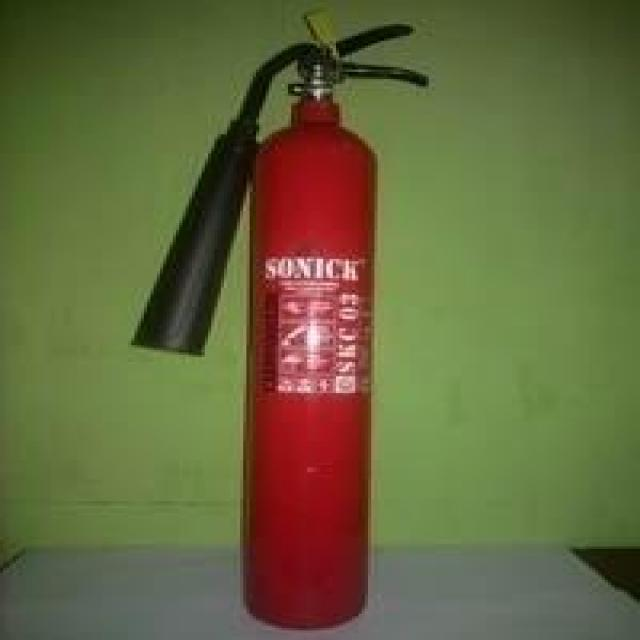fire_extinguisher: (120, 2, 434, 633)
